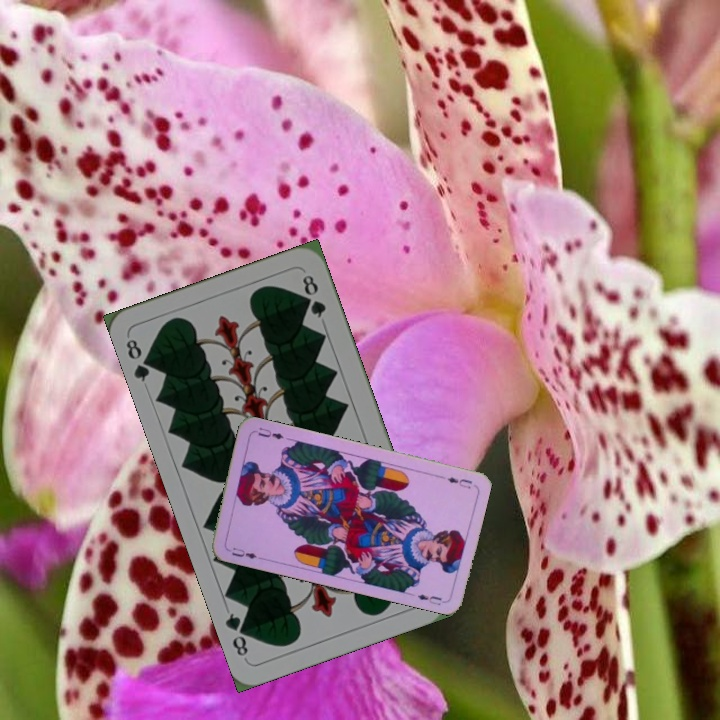EU: (435, 472, 475, 491), (228, 543, 264, 562)
G8: (121, 335, 158, 385)
